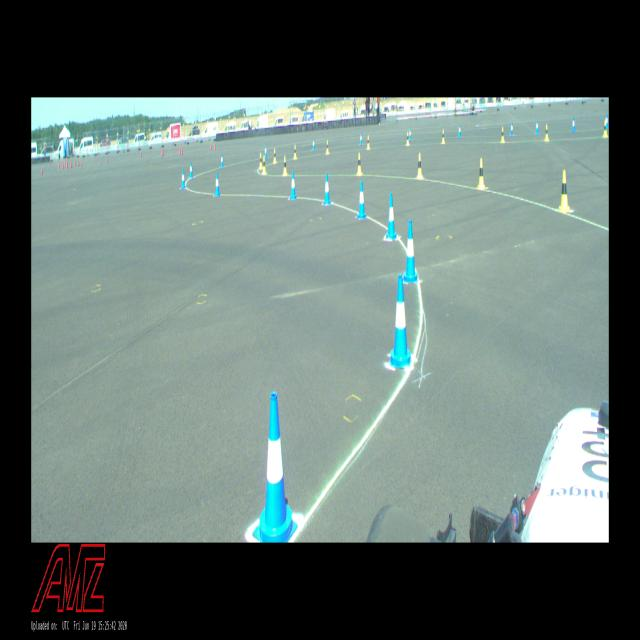blue_cone: (254, 392, 298, 542), (389, 273, 412, 369), (403, 220, 418, 283), (386, 194, 397, 238), (357, 181, 367, 218), (324, 173, 331, 205), (290, 172, 297, 199), (215, 173, 220, 196), (182, 169, 186, 189), (572, 117, 576, 132), (190, 162, 193, 178), (511, 122, 514, 136), (458, 124, 461, 138), (220, 154, 223, 167), (409, 128, 412, 141), (536, 120, 538, 134), (265, 145, 267, 158), (606, 115, 608, 128), (360, 133, 362, 145), (313, 138, 315, 150)
unknown_cone: (70, 160, 72, 168), (214, 143, 216, 151), (210, 143, 212, 151), (162, 149, 164, 156), (106, 156, 108, 163), (66, 161, 68, 168), (179, 148, 181, 154), (74, 161, 76, 167), (64, 161, 66, 167), (62, 163, 64, 168), (182, 148, 183, 155), (81, 159, 82, 166), (78, 159, 79, 166), (180, 146, 181, 152), (141, 151, 142, 157), (61, 160, 62, 166), (50, 160, 51, 166), (59, 164, 60, 168), (162, 150, 162, 156), (42, 168, 42, 174)
yellow_cone: (559, 170, 569, 211), (478, 158, 485, 189), (356, 152, 363, 175), (417, 153, 423, 179), (602, 120, 608, 137), (283, 156, 287, 176), (544, 124, 549, 140), (262, 156, 266, 174), (258, 152, 262, 169), (366, 136, 371, 149), (273, 148, 277, 164), (500, 126, 504, 142), (441, 130, 445, 144), (406, 132, 410, 146), (326, 140, 329, 154), (294, 145, 297, 159)
